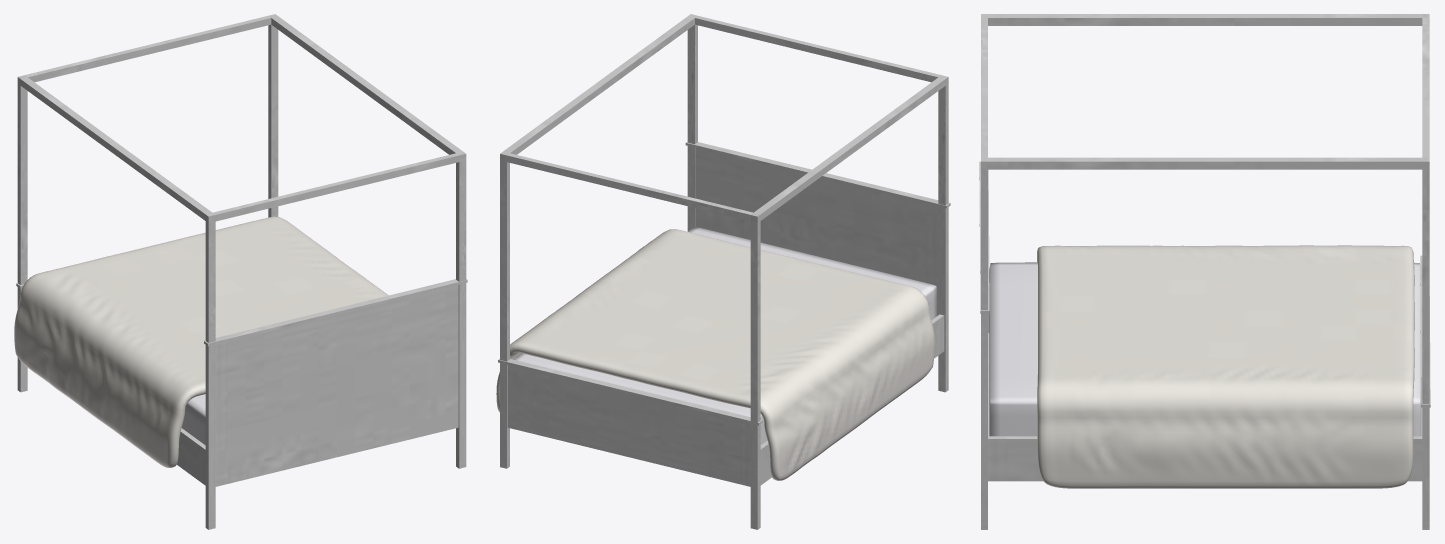
The model's file is Bed31.glb.
3 views of the same model, side by side, from view 1: azimuth 30°, elevation 25°; view 2: azimuth 150°, elevation 25°; view 3: azimuth 270°, elevation 25° (orthographic). The views are drawn at different scales.
Visible parts, largest first — view 1: BedFrame31, Blanket31, Mattress31; view 2: BedFrame31, Blanket31, Mattress31; view 3: Blanket31, BedFrame31, Mattress31.
Boxes of the visible parts, x1=… form: BedFrame31: x1=16, y1=14, x2=467, y2=529; Blanket31: x1=14, y1=216, x2=388, y2=467; Mattress31: x1=181, y1=394, x2=205, y2=445; BedFrame31: x1=498, y1=14, x2=950, y2=529; Blanket31: x1=496, y1=229, x2=934, y2=480; Mattress31: x1=513, y1=227, x2=936, y2=444; Blanket31: x1=1037, y1=245, x2=1414, y2=488; BedFrame31: x1=979, y1=14, x2=1430, y2=529; Mattress31: x1=989, y1=262, x2=1421, y2=436.
Bounding box in the file's own units: 4.86 × 5.12 × 5.69.
Materials: 3 (3 with a texture image).
